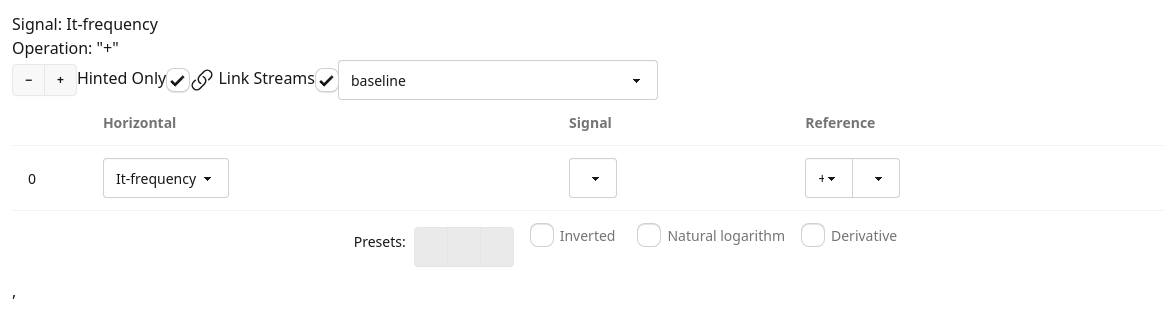
the SingleRunPicker() component › sets reference operation
Select "÷" in the dropdown named "Row 0 reference operation" at (829, 178), box [805,158,853,198]
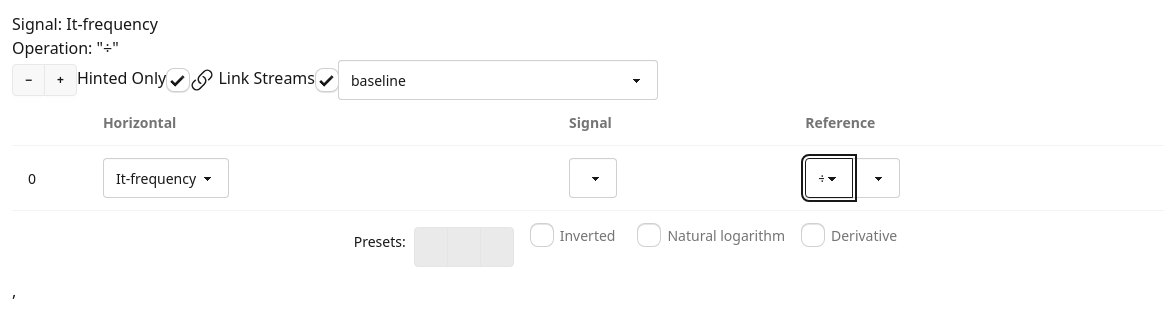
expect the text "Operation: \"÷\"" is shown: met, box [12,37,119,59]
Select "" in the dropdown named "Row 0 reference operation" at (829, 178), box [805,158,853,198]
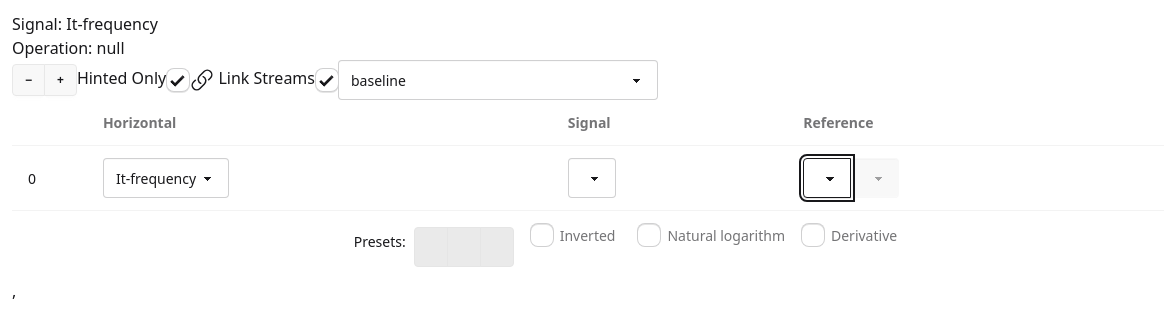
expect the text "Operation: null" is shown: met, box [12,37,125,59]
